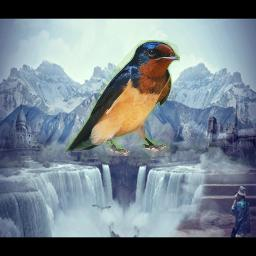Swallow: (64, 40, 180, 156)
